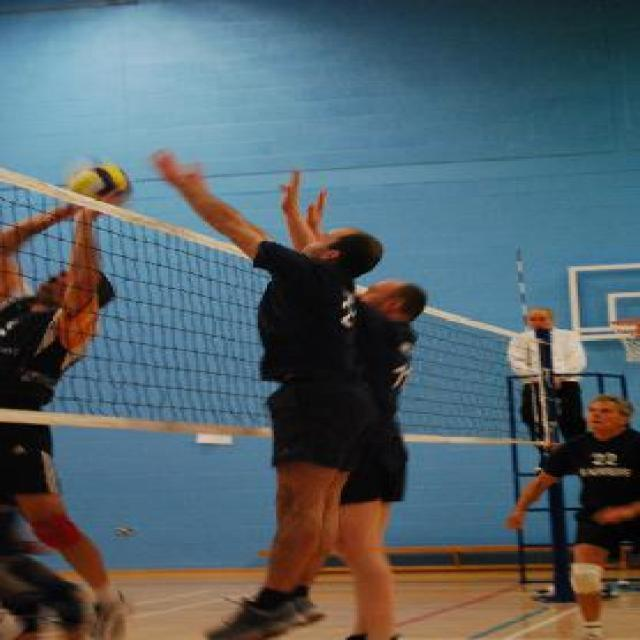volleyball: (70, 162, 130, 205)
